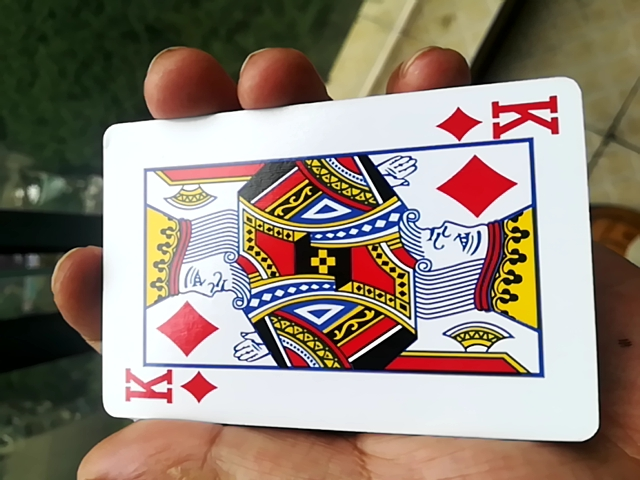fk k: (91, 91, 594, 445)
